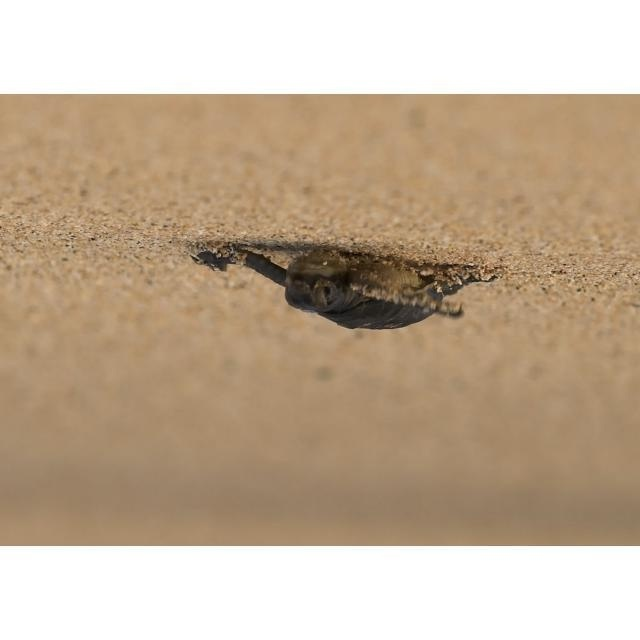turtle: (194, 246, 492, 333)
